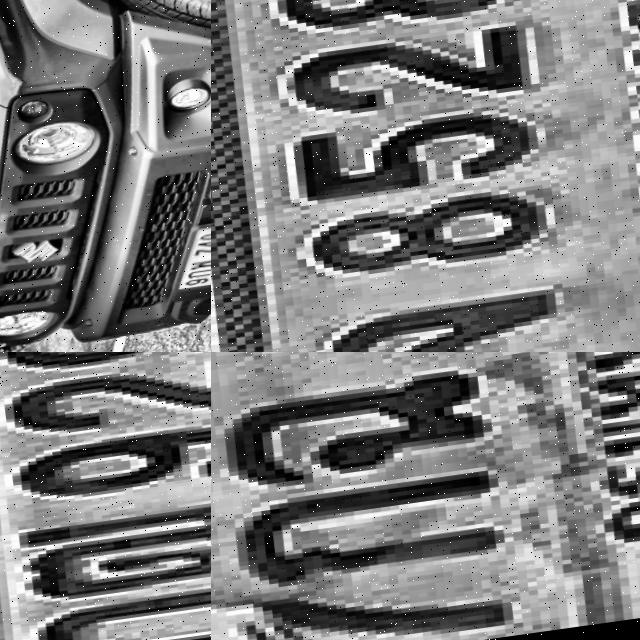license-plate: (211, 0, 640, 352), (211, 352, 640, 640), (0, 352, 211, 640), (167, 212, 211, 292)
